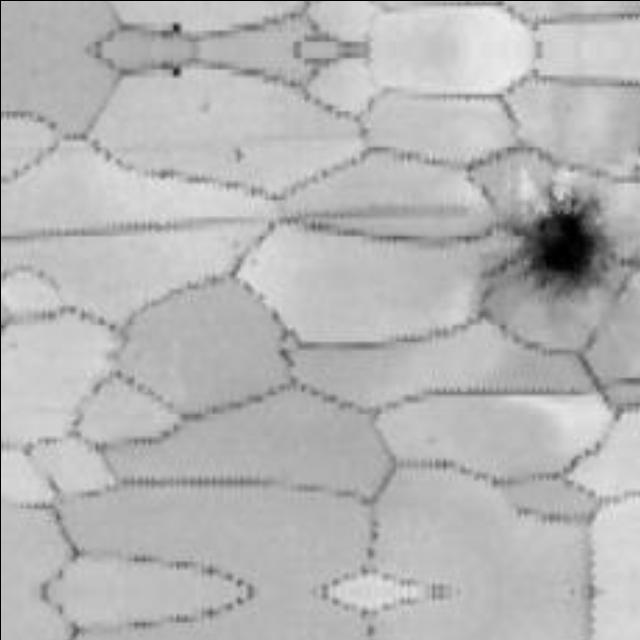good_void: (478, 182, 612, 302), (227, 146, 245, 164), (168, 64, 183, 80), (168, 19, 183, 35)
